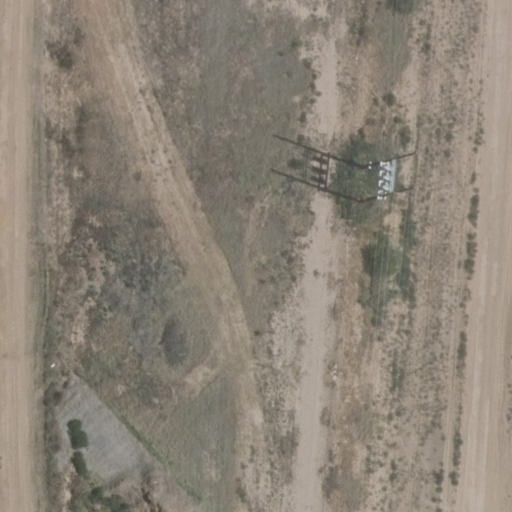DT: (349, 146, 433, 209)
